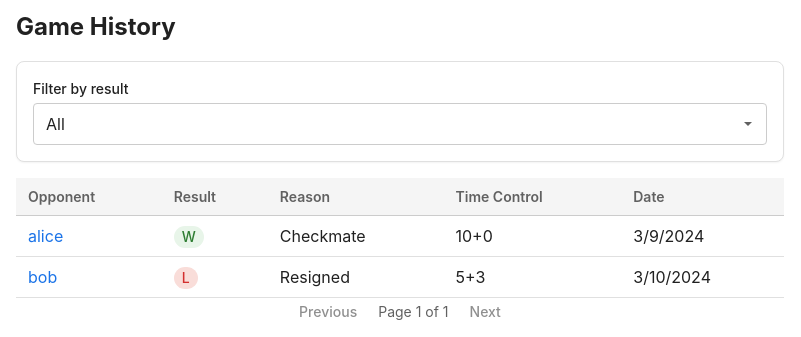
Test: HistoryPage › filter dropdown changes displayed results
expect the link "alice" is shown: met, box left=28, top=224, right=63, bottom=248
Select "Wins" in the dropdown labelled "Filter by result" at coordinates (400, 124), box left=33, top=103, right=767, bottom=145
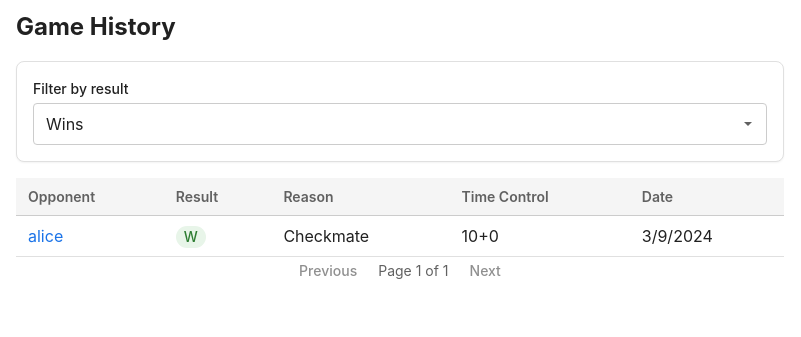
expect the link "alice" is shown: met, box left=28, top=224, right=63, bottom=248
expect the link "bob" is gone: met
